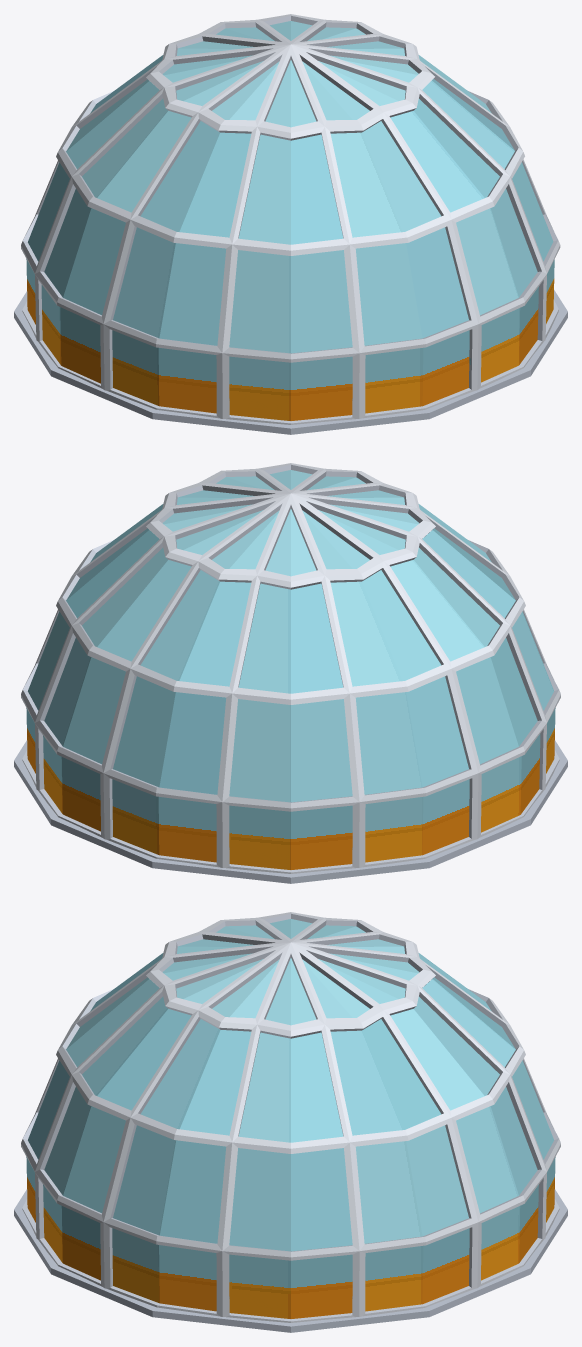
File: f.sphera_1.gltf
3 renders of one model, top to bottom at view 1: azimuth 30°, elevation 25°; view 2: azimuth 150°, elevation 25°; view 3: azimuth 270°, elevation 25°, orthographic.
Visible parts, largest first — view 1: sphere_1; view 2: sphere_1; view 3: sphere_1.
Part boxes in pixels (x1=…): sphere_1: x1=14, y1=14, x2=567, y2=434; sphere_1: x1=14, y1=463, x2=567, y2=883; sphere_1: x1=14, y1=912, x2=567, y2=1332.
Size of the model in its own units: 13.69 by 7.46 by 13.69.
1 material, 1 textured.
